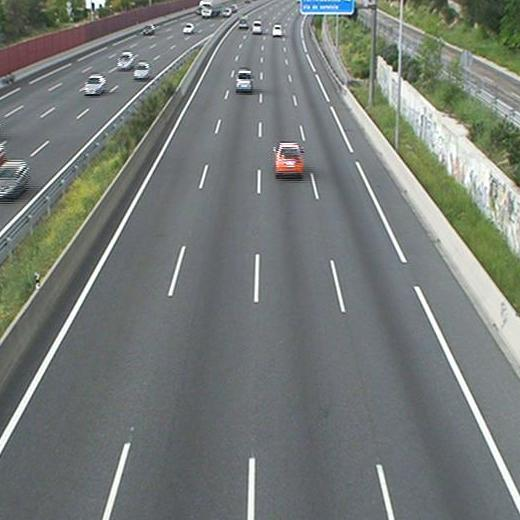car: (274, 143, 303, 174), (235, 71, 254, 90), (271, 25, 283, 37), (251, 21, 262, 33), (238, 16, 248, 28)
